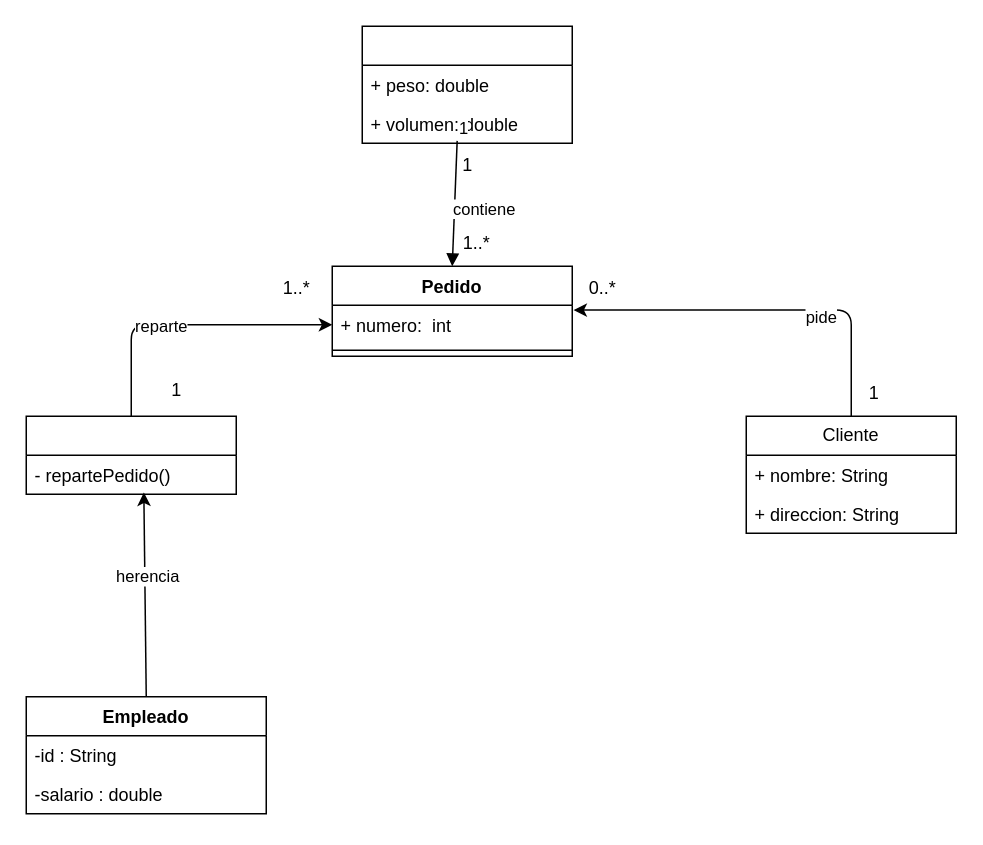
This 983x845 diagram has some shape labels left out. Here are the shapes that lost their labels. From the top down, the box of each, then its label:
(361, 25, 572, 143): Paquete
(25, 415, 236, 494): Repartidor
